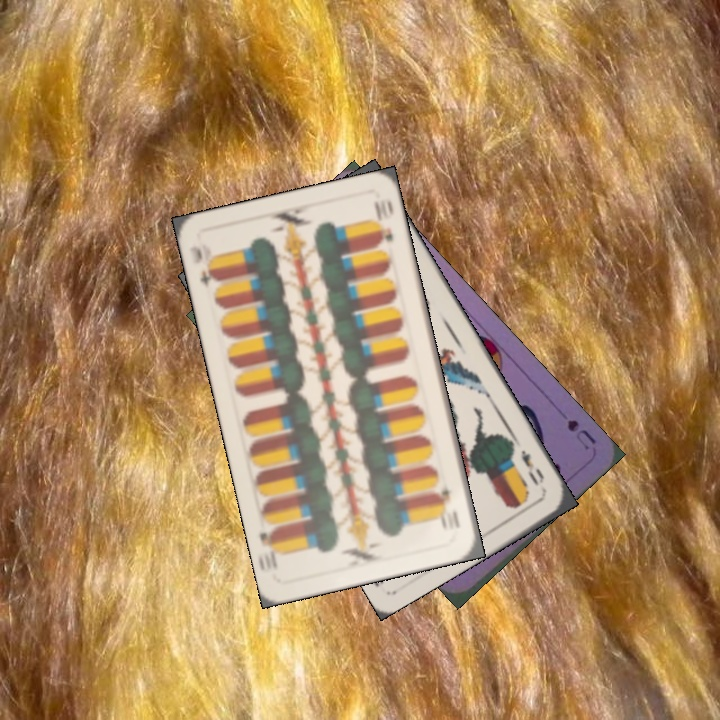E10: (186, 241, 221, 291), (436, 485, 462, 531)
EO: (516, 446, 547, 489)
SU: (563, 415, 599, 452)
